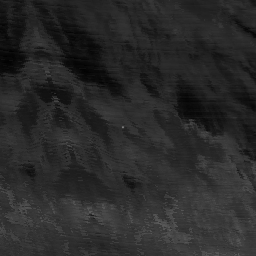Target: (120, 124, 125, 131)
